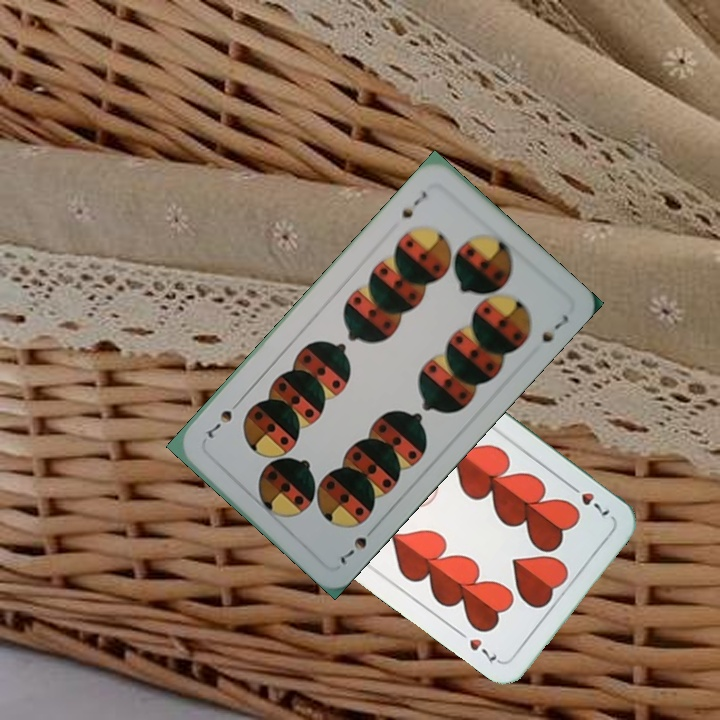H7: (563, 479, 613, 519)
S7: (333, 522, 378, 568), (397, 186, 430, 221)
